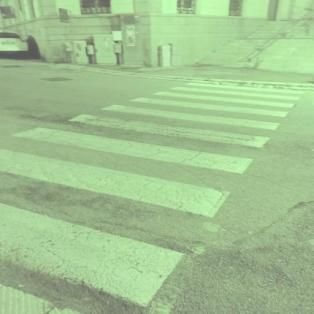Paso de Cebra: (1, 141, 238, 313), (128, 90, 298, 119)
